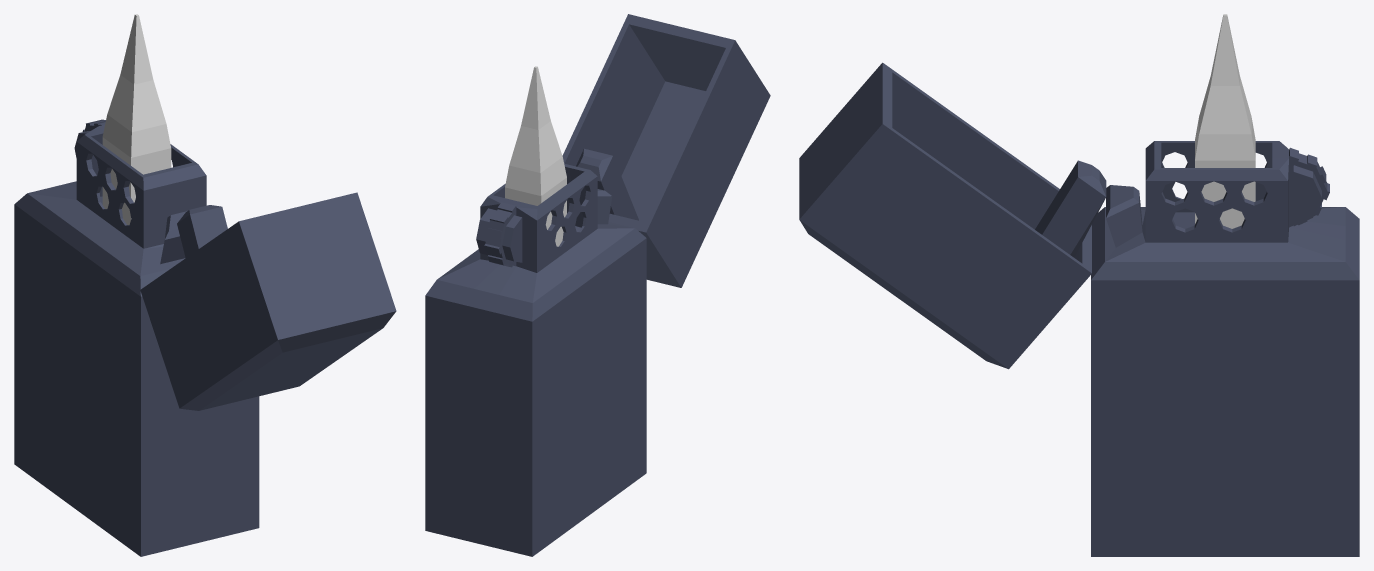
The model's file is chemero.fbx.
3 renders of one model, left to right at view 1: azimuth 30°, elevation 25°; view 2: azimuth 150°, elevation 25°; view 3: azimuth 270°, elevation 25°, orthographic. The views are drawn at different scales.
Visible parts, largest first — view 1: Cube, Cube.002, Cube.005; view 2: Cube, Cube.002, Cube.005; view 3: Cube, Cube.002, Cube.005.
Boxes of the visible parts, bbox=[...] form: Cube: bbox=[14, 119, 259, 556]; Cube.002: bbox=[140, 192, 396, 410]; Cube.005: bbox=[102, 14, 171, 224]; Cube: bbox=[425, 163, 646, 556]; Cube.002: bbox=[562, 14, 770, 287]; Cube.005: bbox=[505, 66, 566, 246]; Cube: bbox=[1091, 141, 1359, 556]; Cube.002: bbox=[799, 62, 1106, 369]; Cube.005: bbox=[1195, 14, 1255, 228].
Size of the model in its own units: 200 by 776 by 771.
